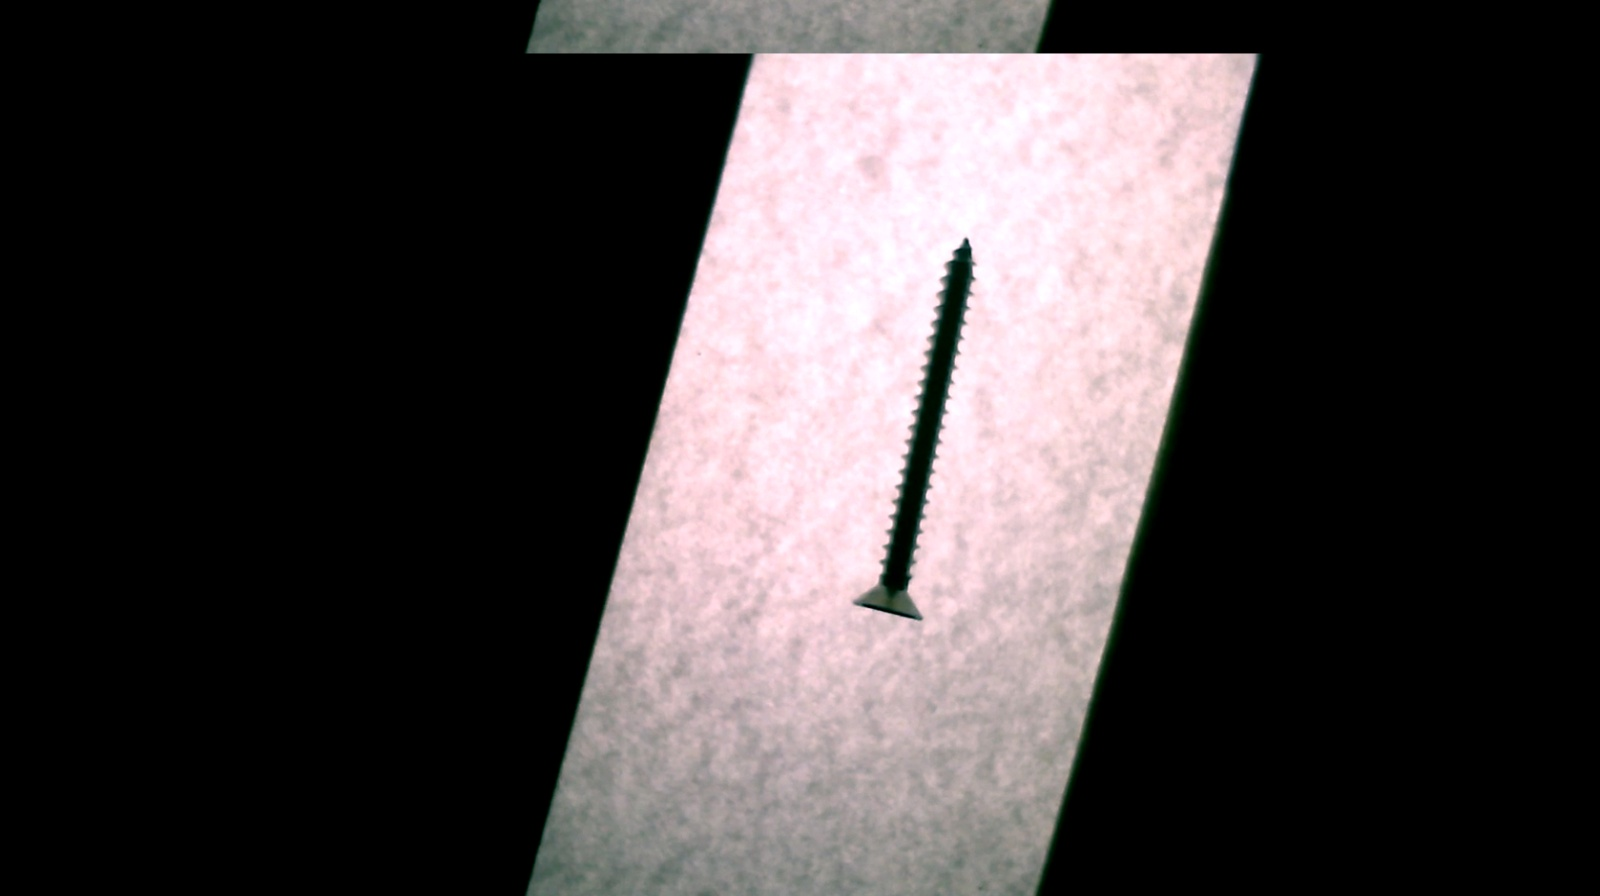S002: (837, 234, 997, 619)
